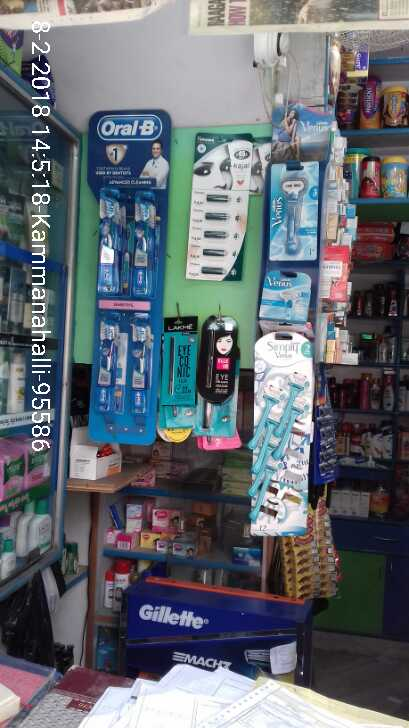beauty: (266, 163, 321, 262), (257, 268, 307, 319)
pharmacy: (124, 194, 161, 294), (130, 309, 157, 425), (98, 314, 125, 418), (94, 191, 121, 292)
